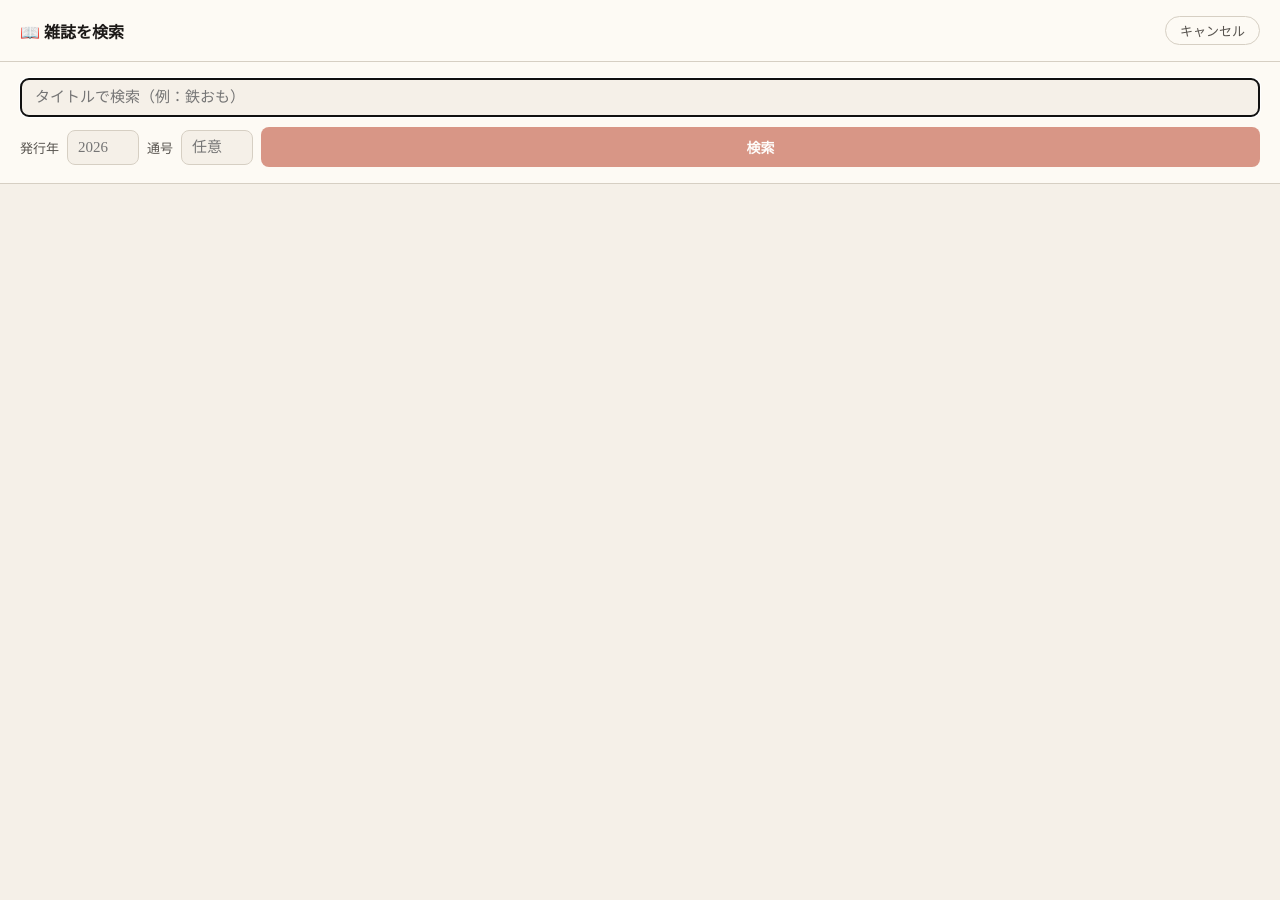
Test case: MagazineSearchView › when the year is cleared after being typed, it should disable the search again
Step 1. Type "鉄おも" into the field with placeholder "タイトルで検索（例：鉄おも）" → x=640, y=98, box x1=20 y1=78 x2=1260 y2=117
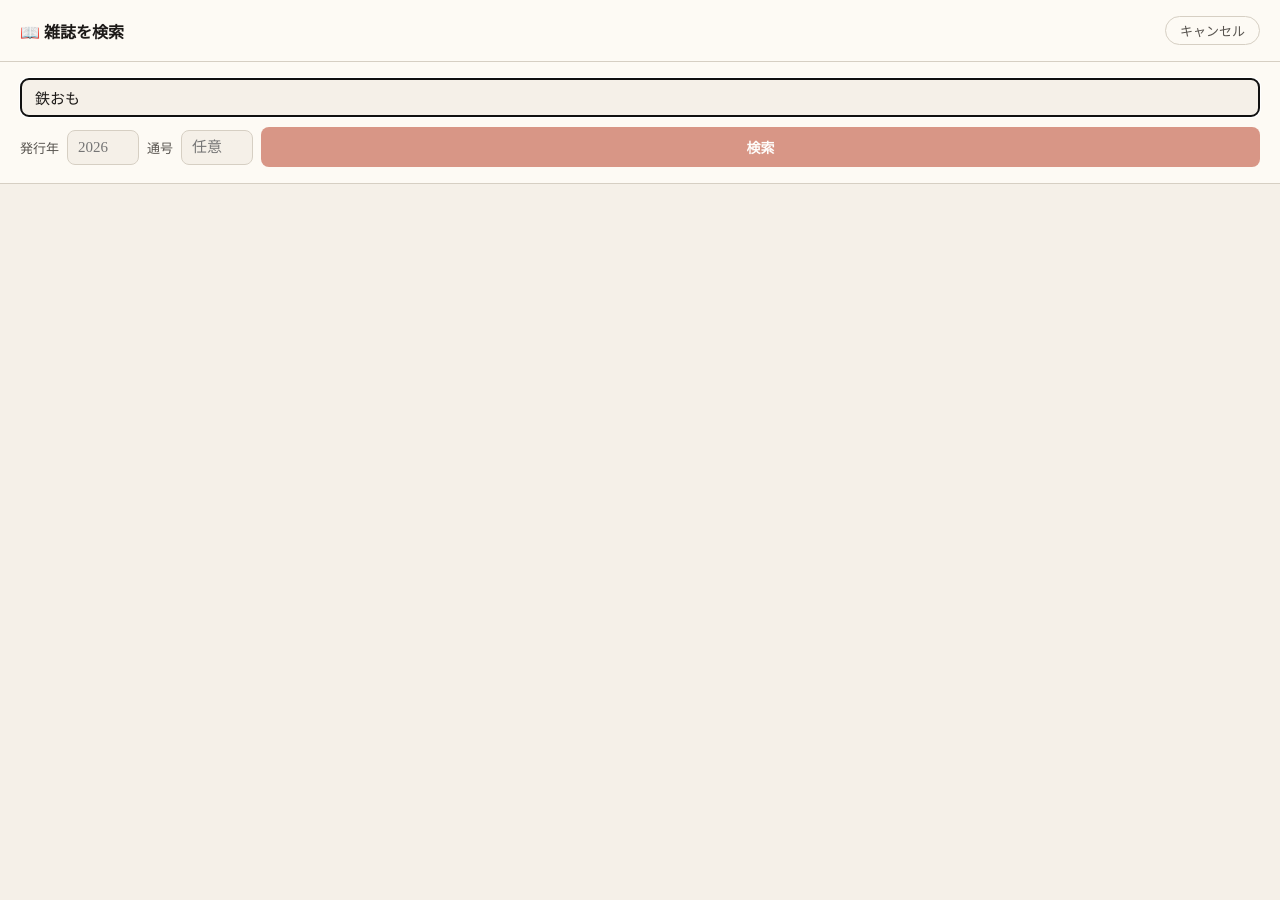
Step 2. Type "2025" into the number field with placeholder "2026" → x=103, y=147, box x1=67 y1=130 x2=139 y2=164
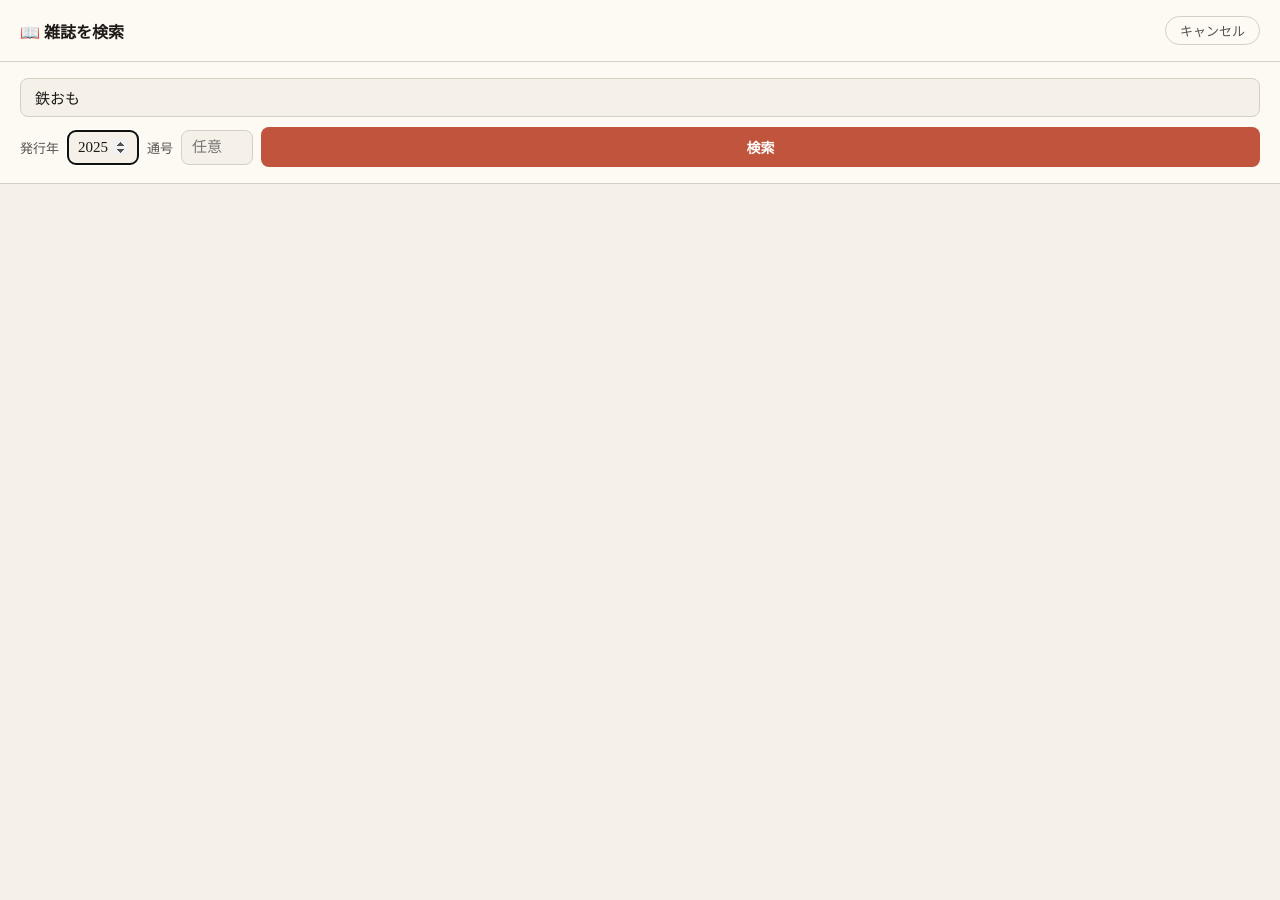
Now the button "検索" is enabled, box x1=261 y1=127 x2=1260 y2=167
Step 3. Clear the 1st number field → x=103, y=147, box x1=67 y1=130 x2=139 y2=164
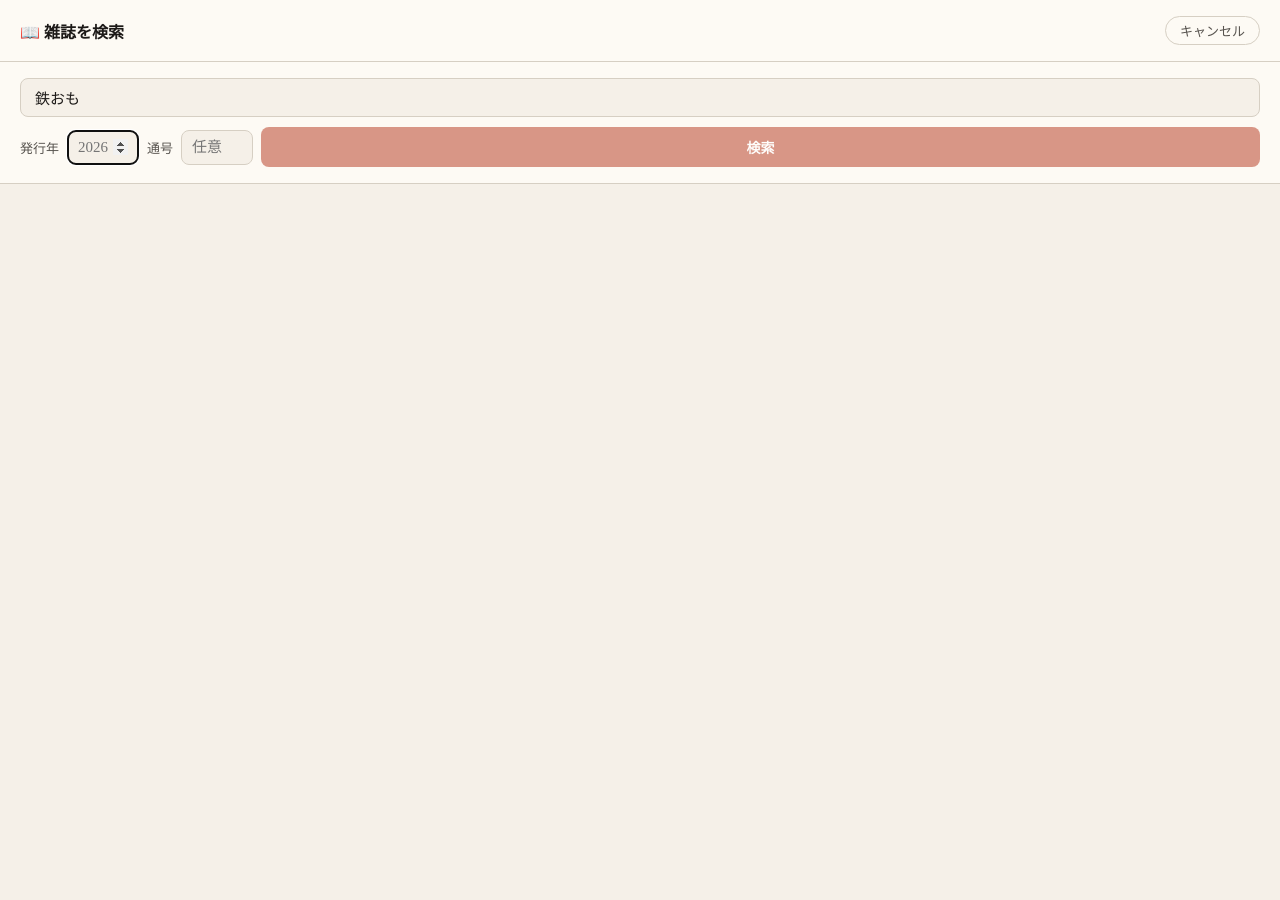
Now the button "検索" is disabled, box x1=261 y1=127 x2=1260 y2=167
